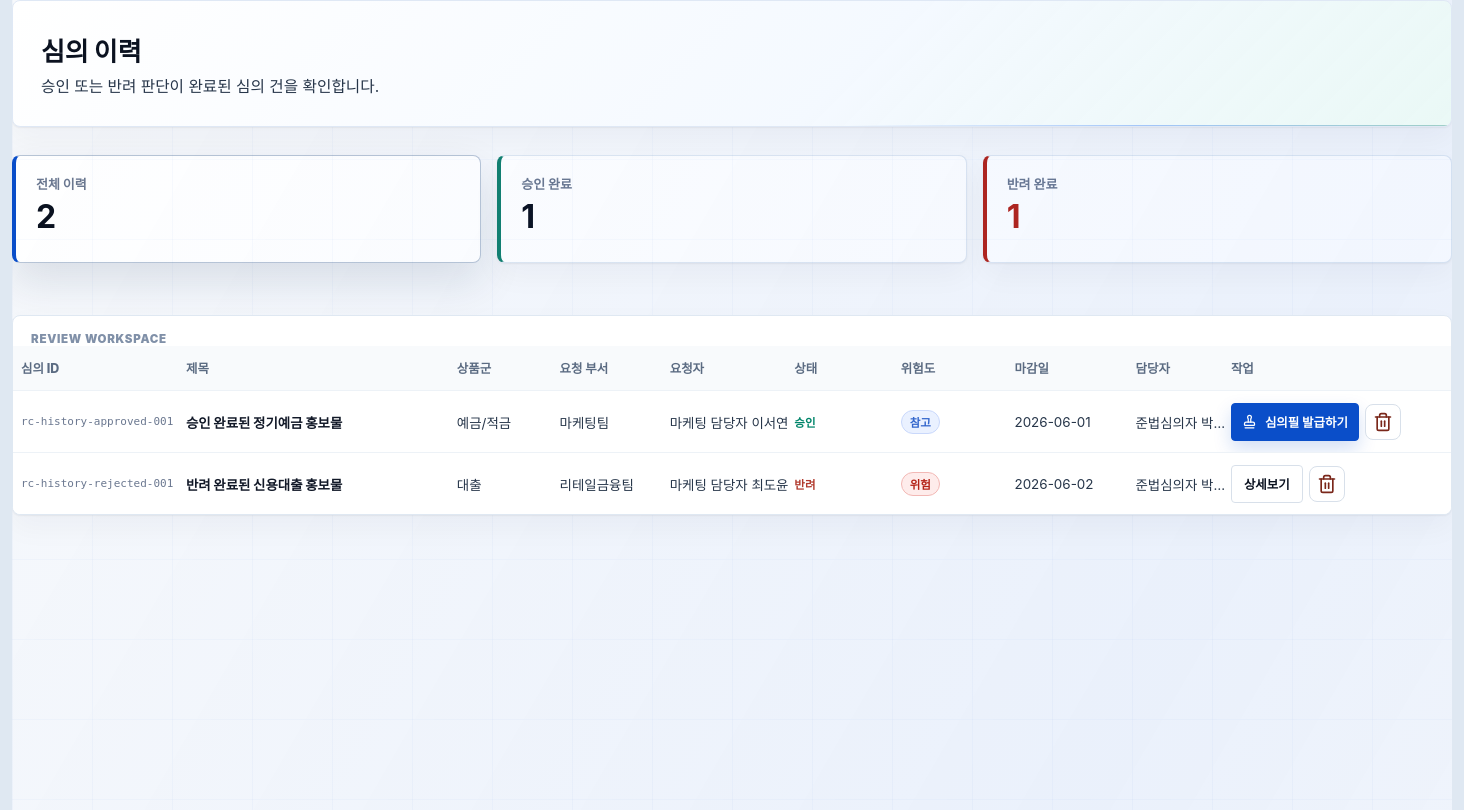
Test case: ReviewQueue › deletes a confirmed review history item and removes it from the list
Click the button named "심의 이력 삭제: 승인 완료된 정기예금 홍보물": (1383, 422) [1365,404,1401,440]
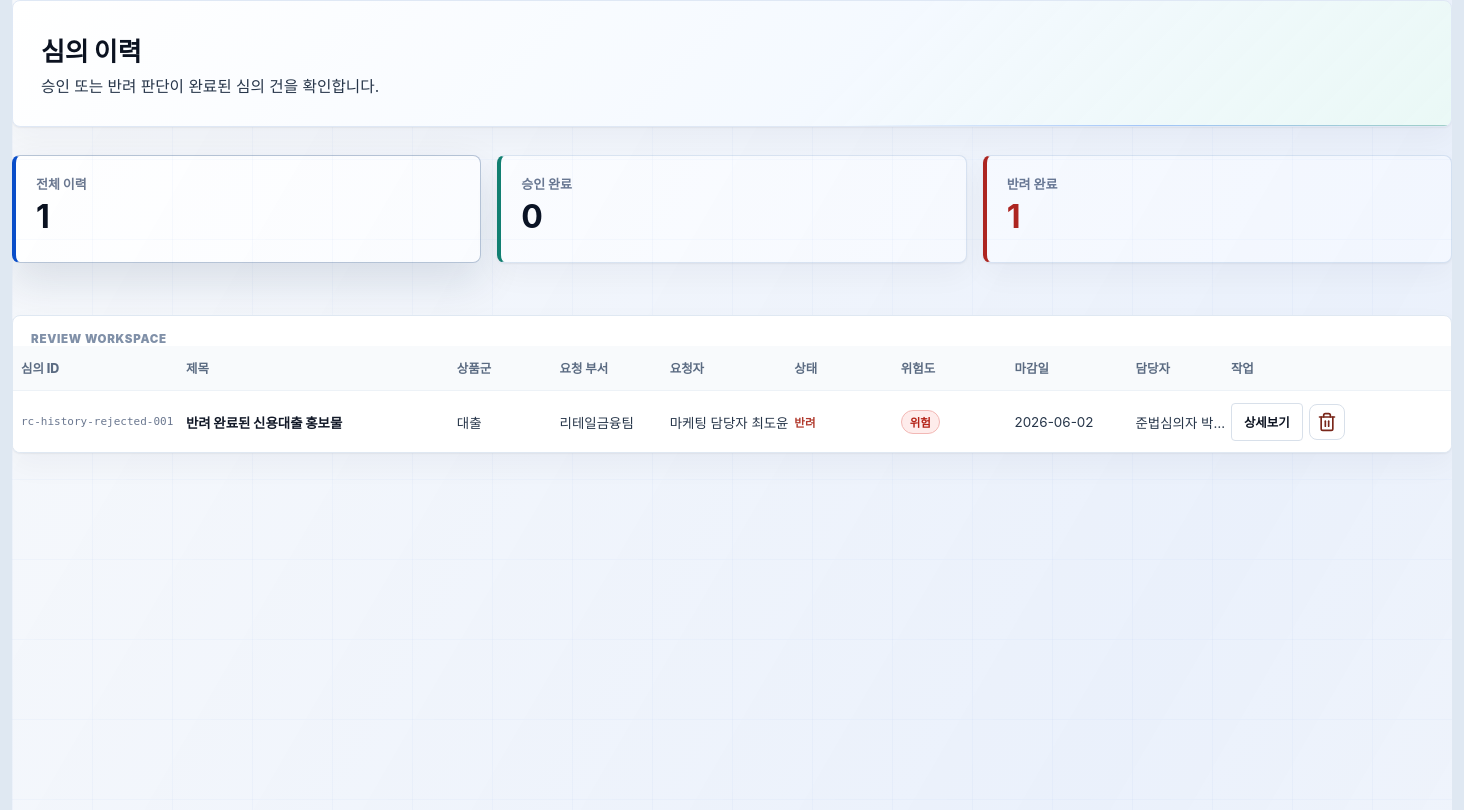
Expected: the text "반려 완료된 신용대출 홍보물" is shown, [186,415,342,431]
Expected: the text "승인 완료된 정기예금 홍보물" is gone
